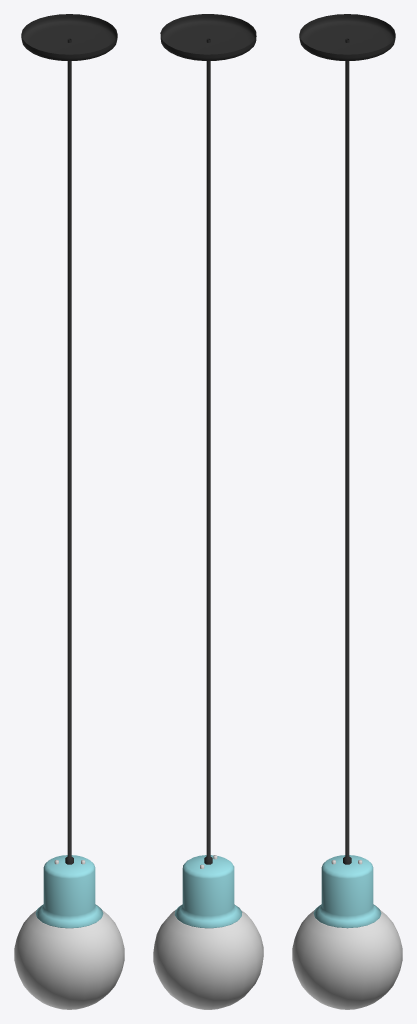
File: MSH_Ludoteca_Lampara.fbx
3 renders of one model, left to right at view 1: azimuth 90°, elevation 25°; view 2: azimuth 150°, elevation 25°; view 3: azimuth 270°, elevation 25°, orthographic.
Parts seen in each view (by area): view 1: MSH_Ludoteca_Lampara; view 2: MSH_Ludoteca_Lampara; view 3: MSH_Ludoteca_Lampara.
Boxes of the visible parts, left/top/right/bottom form: MSH_Ludoteca_Lampara: left=14, top=14, right=124, bottom=1009; MSH_Ludoteca_Lampara: left=153, top=14, right=263, bottom=1009; MSH_Ludoteca_Lampara: left=292, top=14, right=402, bottom=1009.
Bounding box in the file's own units: 24.16 × 234 × 24.16.
